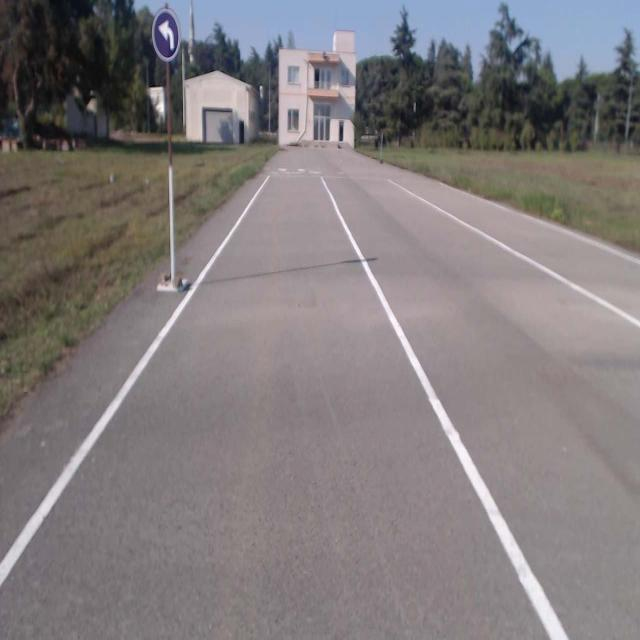sol: (152, 8, 181, 61)
